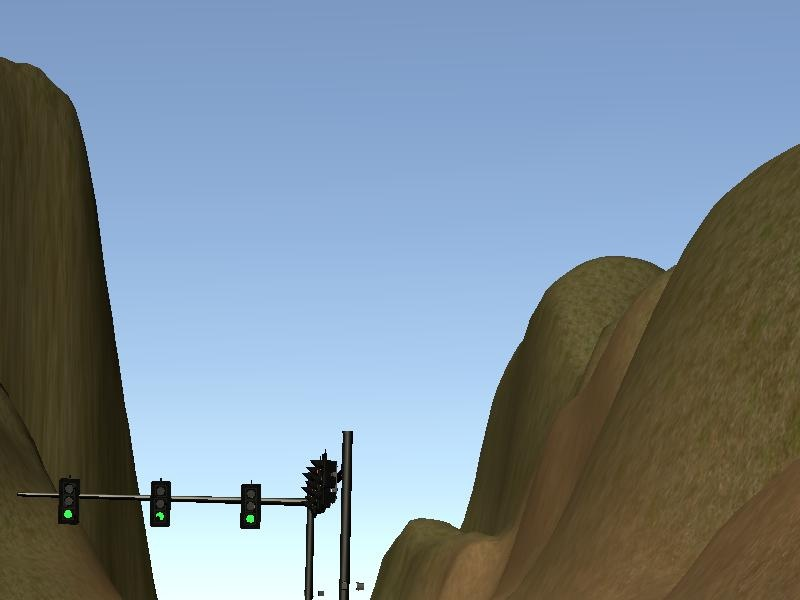green: (241, 484, 263, 531), (150, 481, 172, 528), (60, 479, 80, 526)
